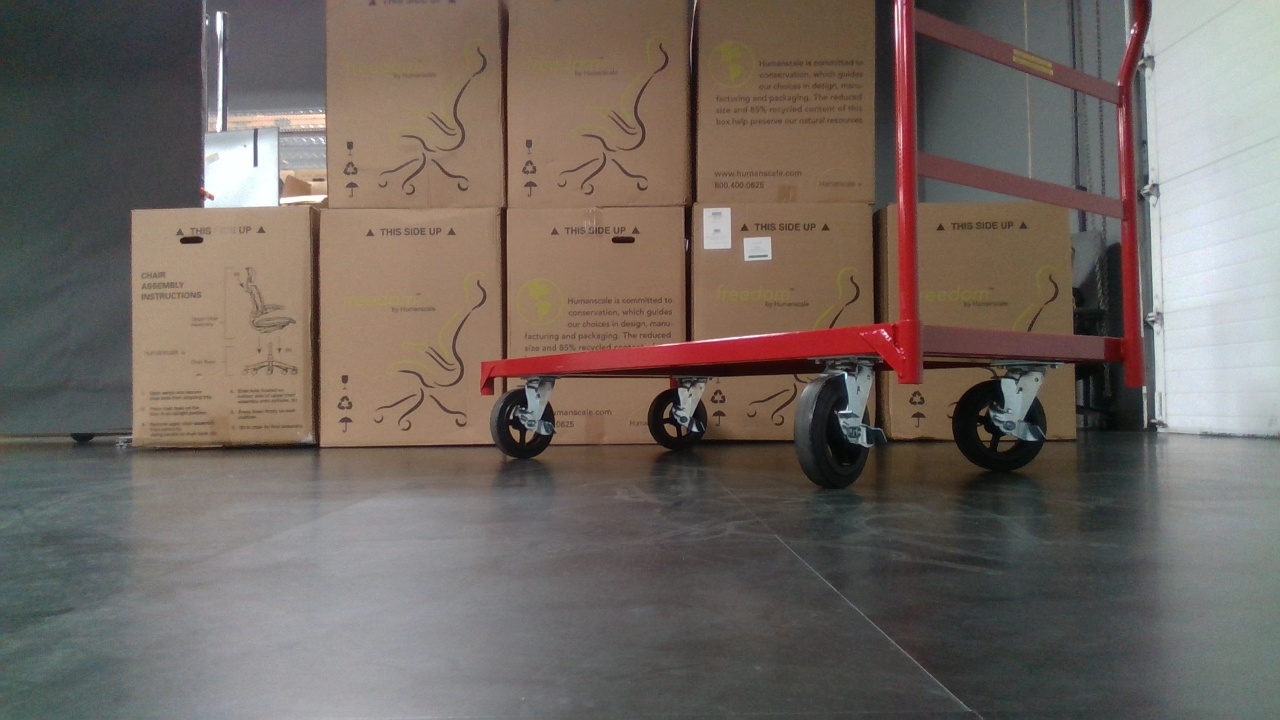Dolly: (472, 0, 1161, 502)
Wheel: (789, 374, 874, 490), (950, 378, 1049, 474), (488, 385, 557, 459), (645, 385, 709, 454)
